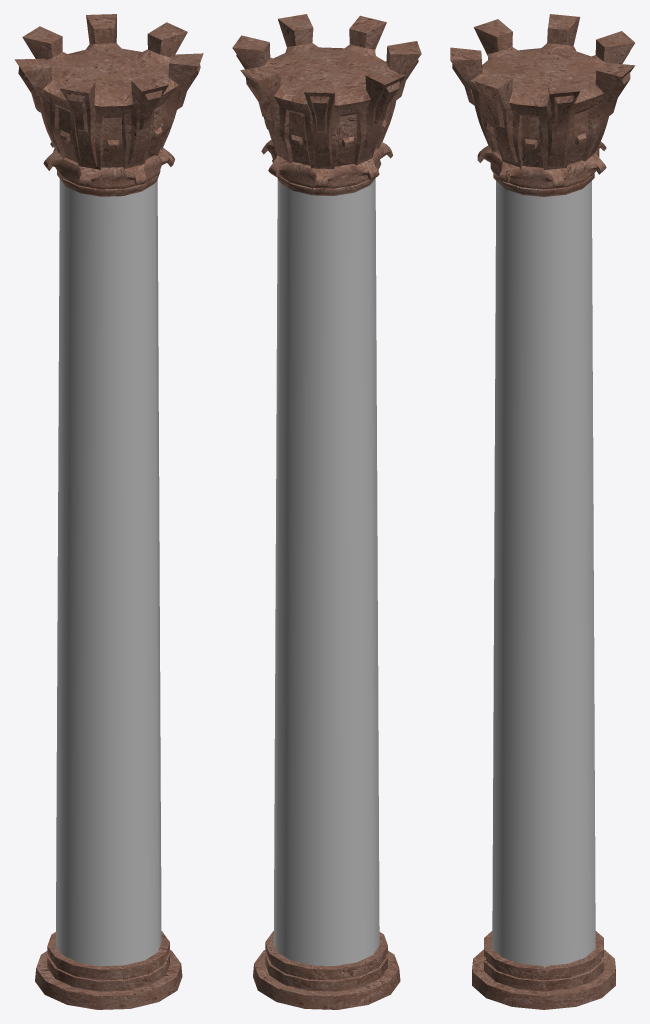
The model's file is objPillart.obj.
The picture shows the model from 3 angles, left to right: view 1: azimuth 30°, elevation 25°; view 2: azimuth 150°, elevation 25°; view 3: azimuth 270°, elevation 25°; orthographic projection.
Visible parts, largest first — view 1: Pillar; view 2: Pillar; view 3: Pillar.
Boxes of the visible parts, x1,y1,x2,y2 form: Pillar: [14, 14, 203, 1009]; Pillar: [232, 14, 421, 1009]; Pillar: [450, 14, 635, 1009].
Bounding box in the file's own units: 1.49 × 7.98 × 1.45.
